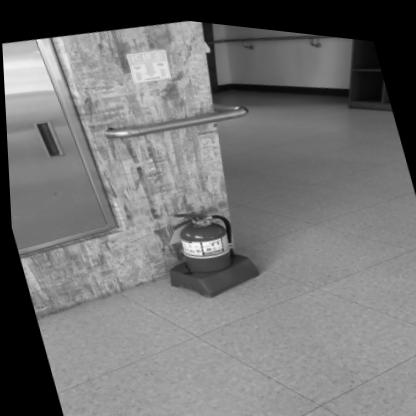FE: (149, 193, 258, 305)
